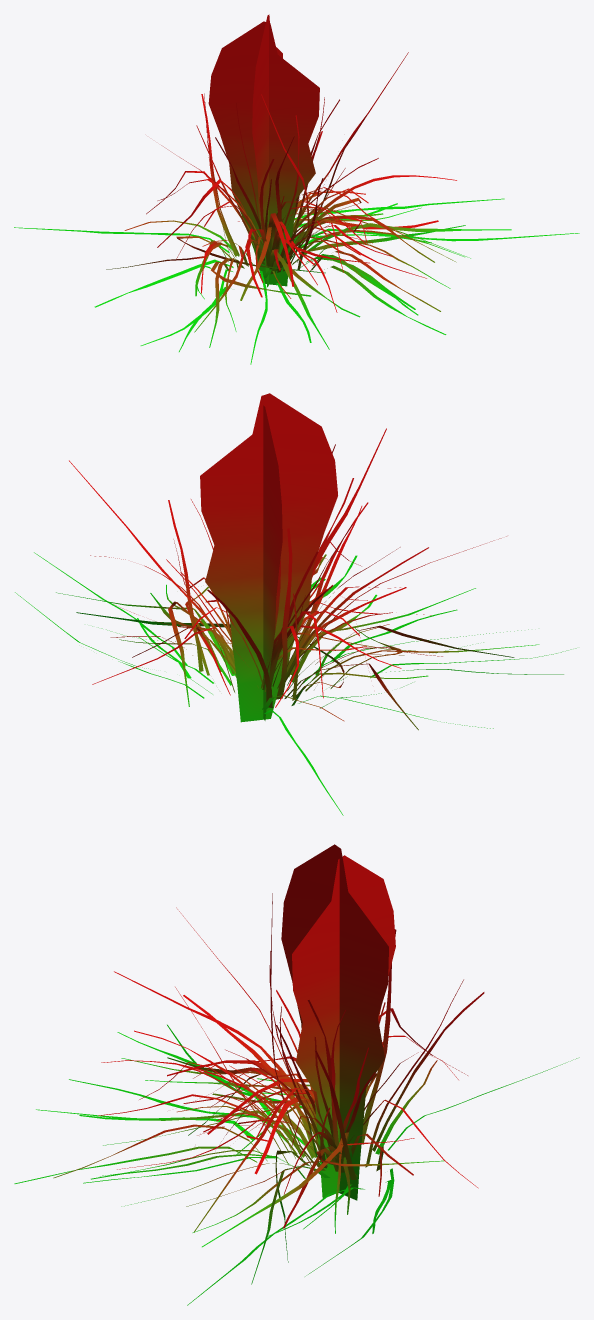
File: Var12_LOD1.fbx
3 views of the same model, one above another, from view 1: azimuth 30°, elevation 25°; view 2: azimuth 150°, elevation 25°; view 3: azimuth 270°, elevation 25° (orthographic). The views are drawn at different scales.
Visible parts, largest first — view 1: _gzz8_Var12_LOD1; view 2: _gzz8_Var12_LOD1; view 3: _gzz8_Var12_LOD1.
Boxes of the visible parts, x1,y1,x2,y2 form: _gzz8_Var12_LOD1: (14, 14, 579, 364); _gzz8_Var12_LOD1: (15, 393, 576, 815); _gzz8_Var12_LOD1: (14, 844, 579, 1305).
Bounding box in the file's own units: 32.65 × 18.95 × 28.03.
